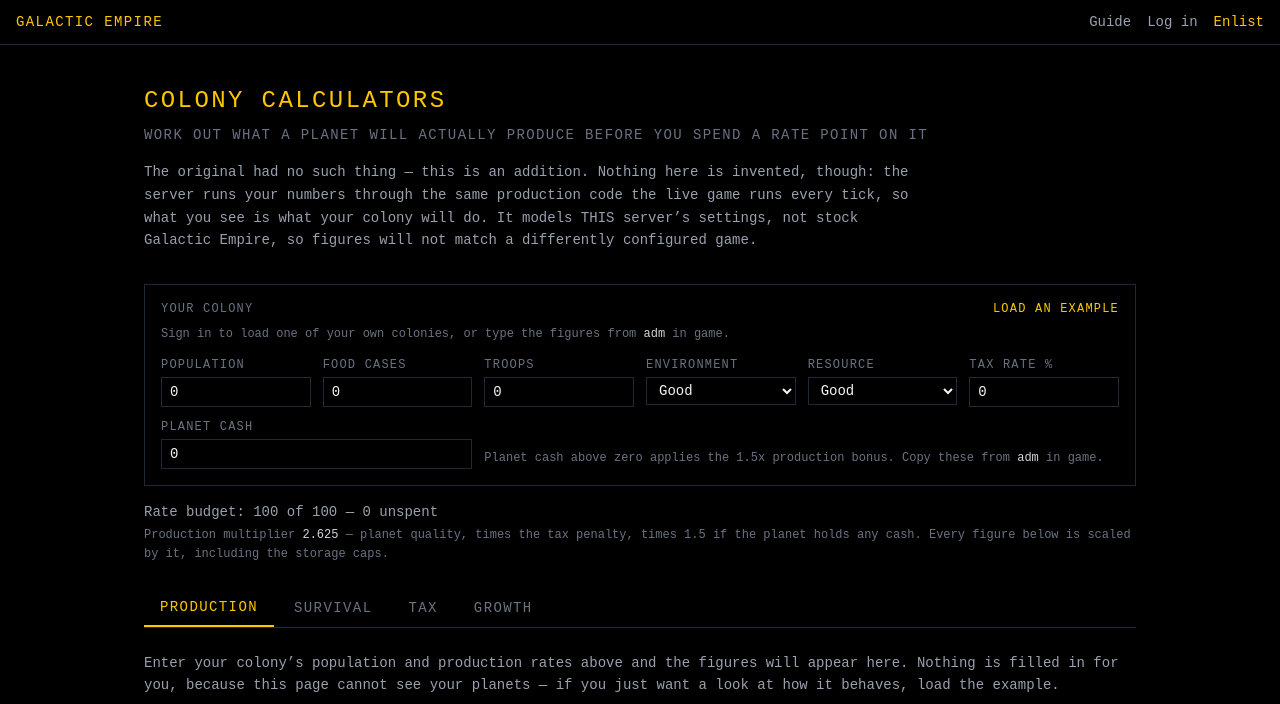
Calculators › tells the reader the tax pool is theirs, unlike planet cash
This screenshot has width=1280, height=704.
Expected: the text "Rate budget: 100 of 100 — 0 unspent" is shown, top-left (144, 504), bottom-right (438, 520)
Click the button "Load an example".
click(1056, 309)  # box top-left (993, 301), bottom-right (1119, 317)
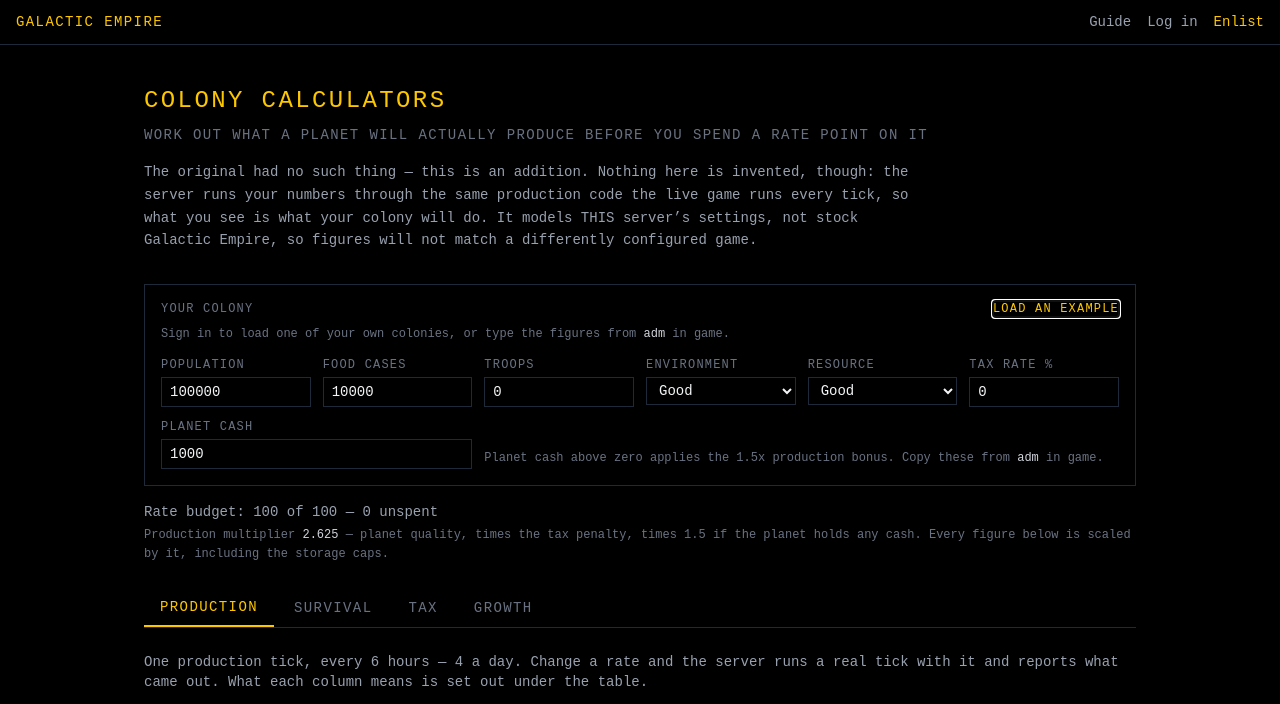
Now the text with test id "empty-prompt" is gone
Click the tab "Tax".
click(423, 608)  # box top-left (392, 588), bottom-right (454, 626)
(page scrolled)
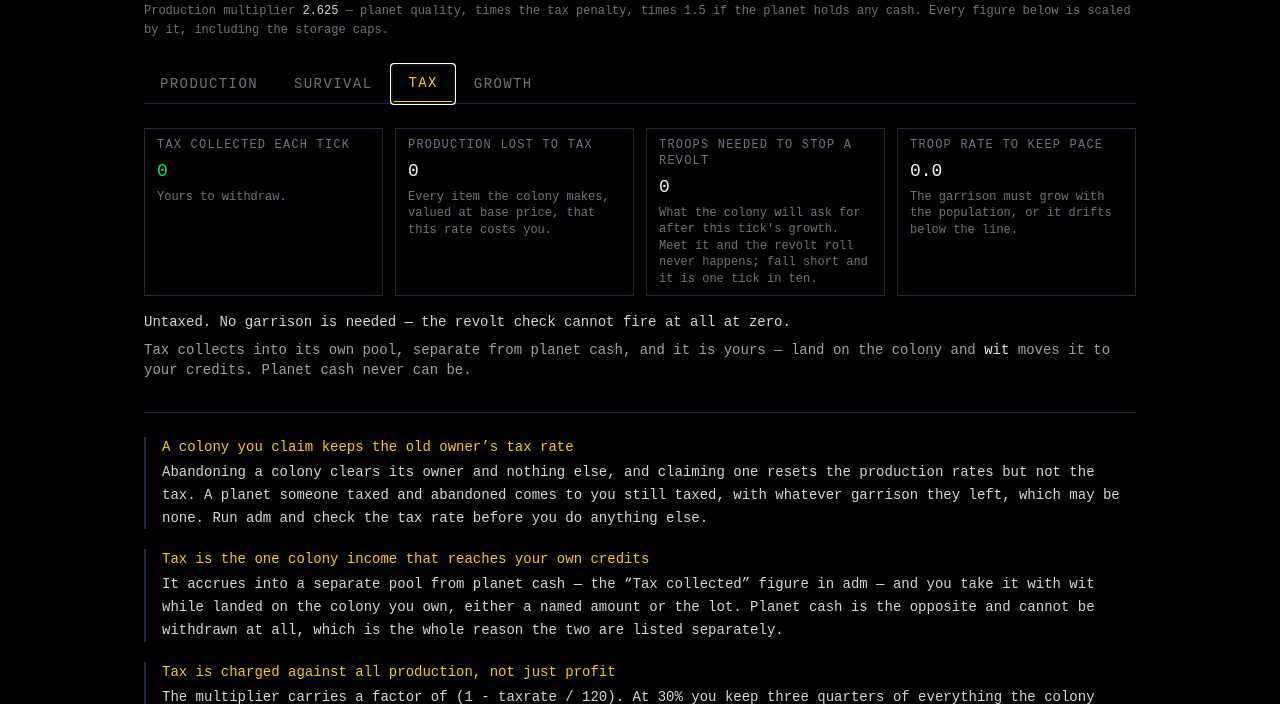
Now the text "wit" is shown, box top-left (984, 342), bottom-right (1009, 358)
Now the text "planet cash never can be" is shown, box top-left (144, 342), bottom-right (1110, 378)
